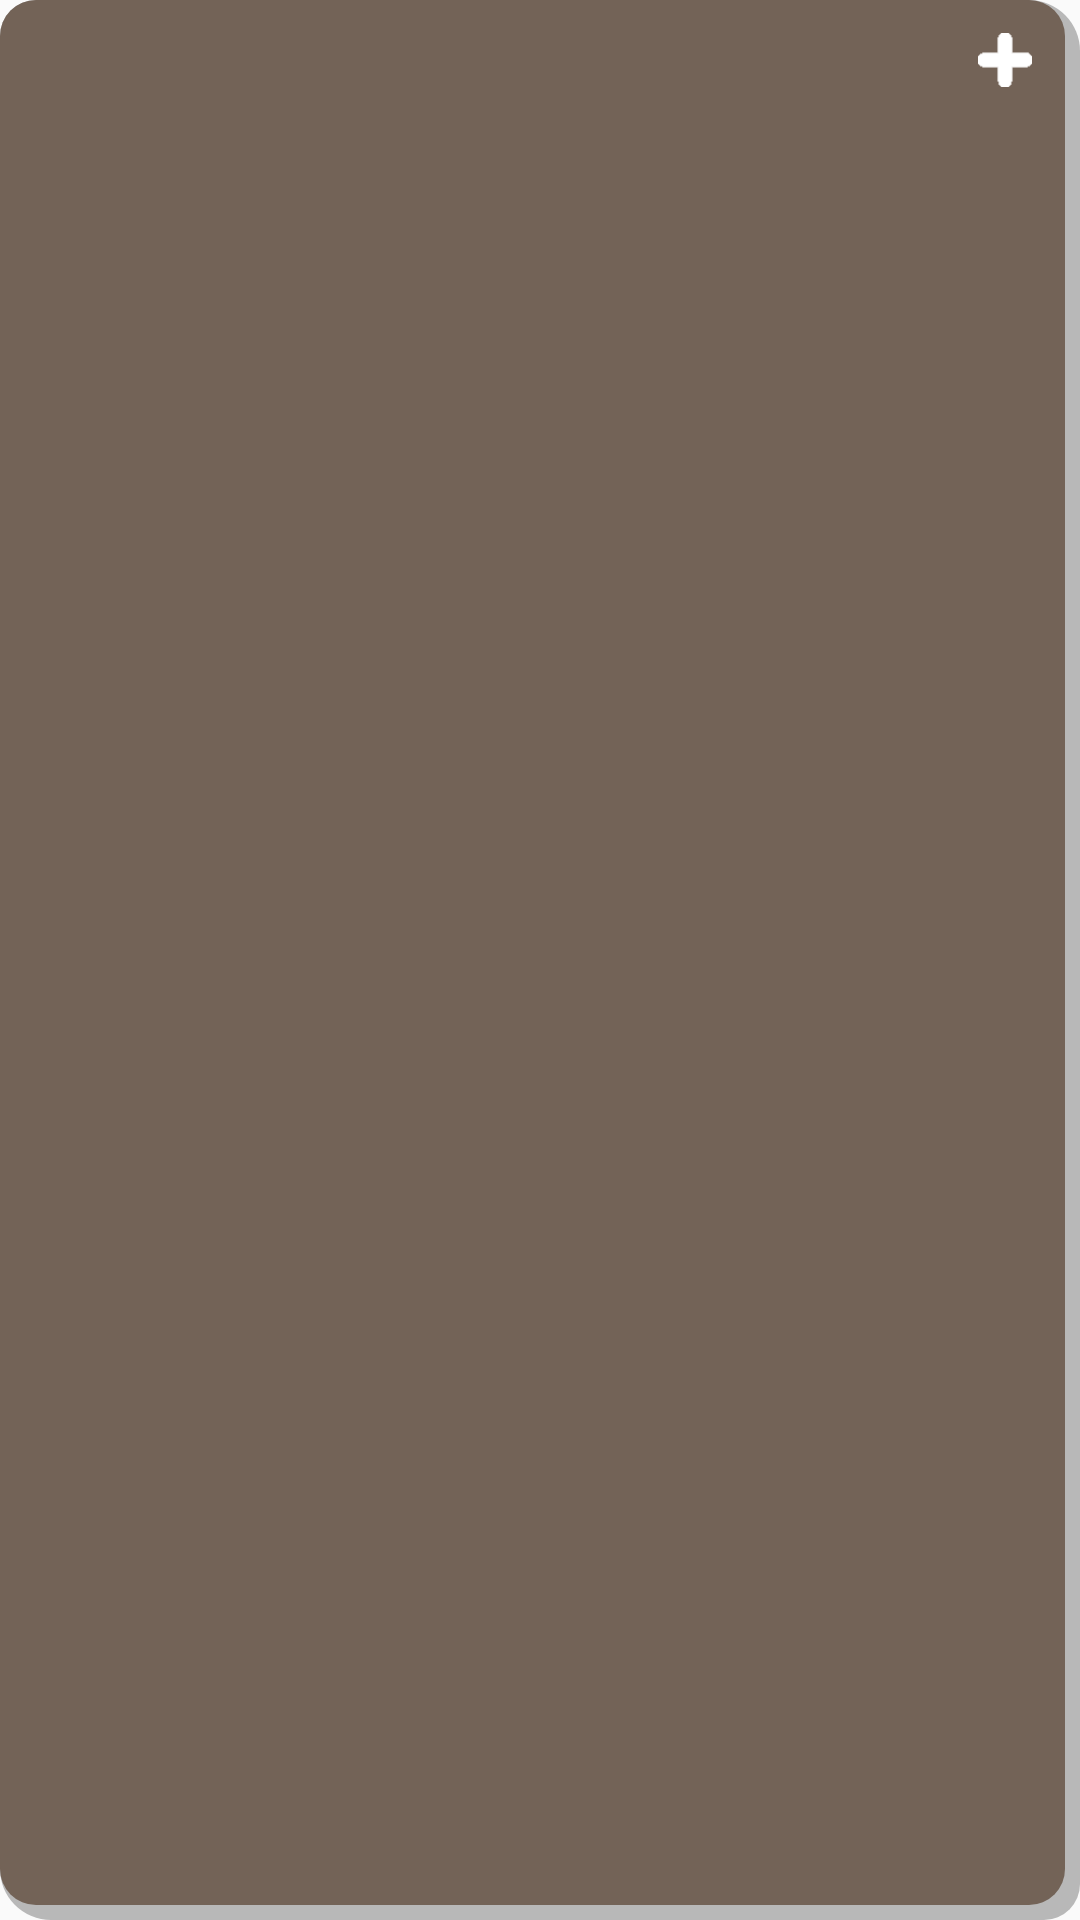

Where icons sit on this 1080px×1920px app screen, as (x1, y1, x2, y2):
plus: (978, 33, 1032, 87)
